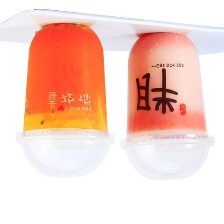glass: (11, 11, 116, 185), (116, 22, 217, 184)
